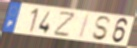1: (29, 8, 40, 34)
4: (37, 9, 53, 35)
6: (111, 17, 129, 44)
I: (78, 14, 91, 40)
S: (91, 16, 112, 42)
Z: (52, 12, 78, 39)
